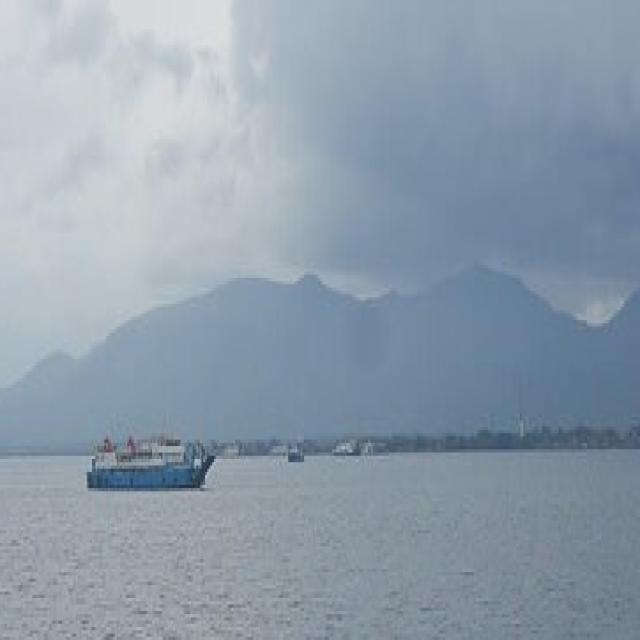fishing boat: (85, 429, 217, 493)
